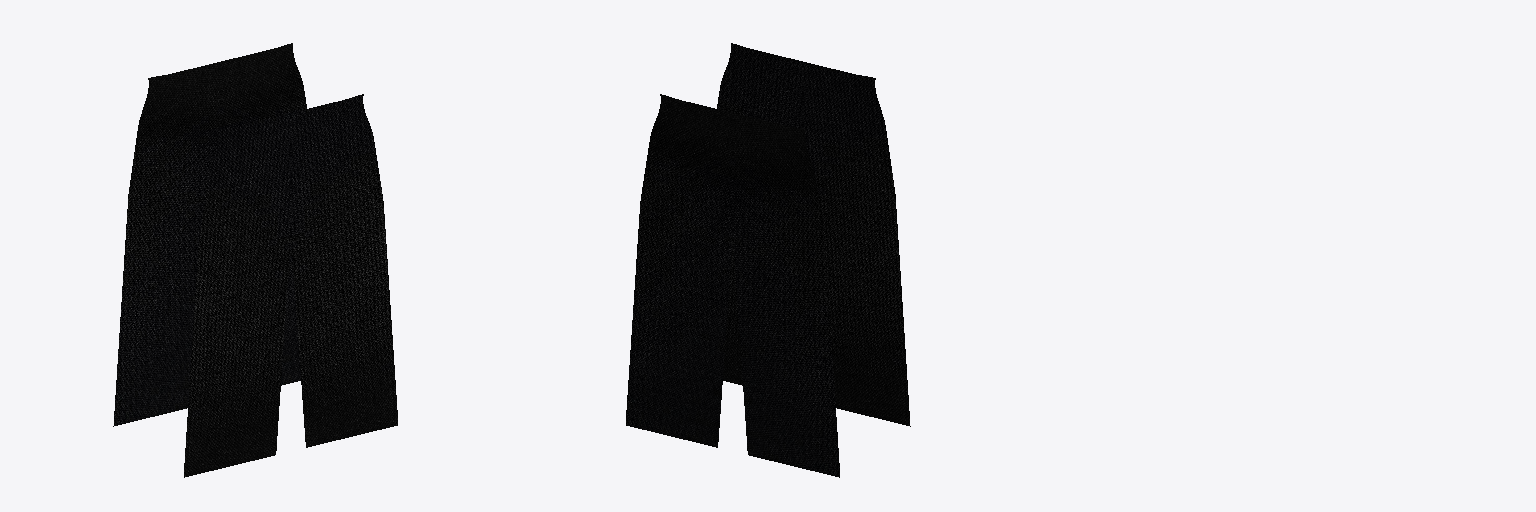
The picture shows the model from 3 angles: view 1: azimuth 30°, elevation 25°; view 2: azimuth 150°, elevation 25°; view 3: azimuth 270°, elevation 25°; orthographic projection.
Parts seen in each view (by area): view 1: Plane_Plane.001; view 2: Plane_Plane.001; view 3: none.
Part boxes in pixels (left/top/right/bottom): Plane_Plane.001: left=113, top=43, right=397, bottom=477; Plane_Plane.001: left=626, top=43, right=910, bottom=477.
Size of the model in its own units: 6.89 by 10.41 by 3.89.
Materials: 1 (1 with a texture image).